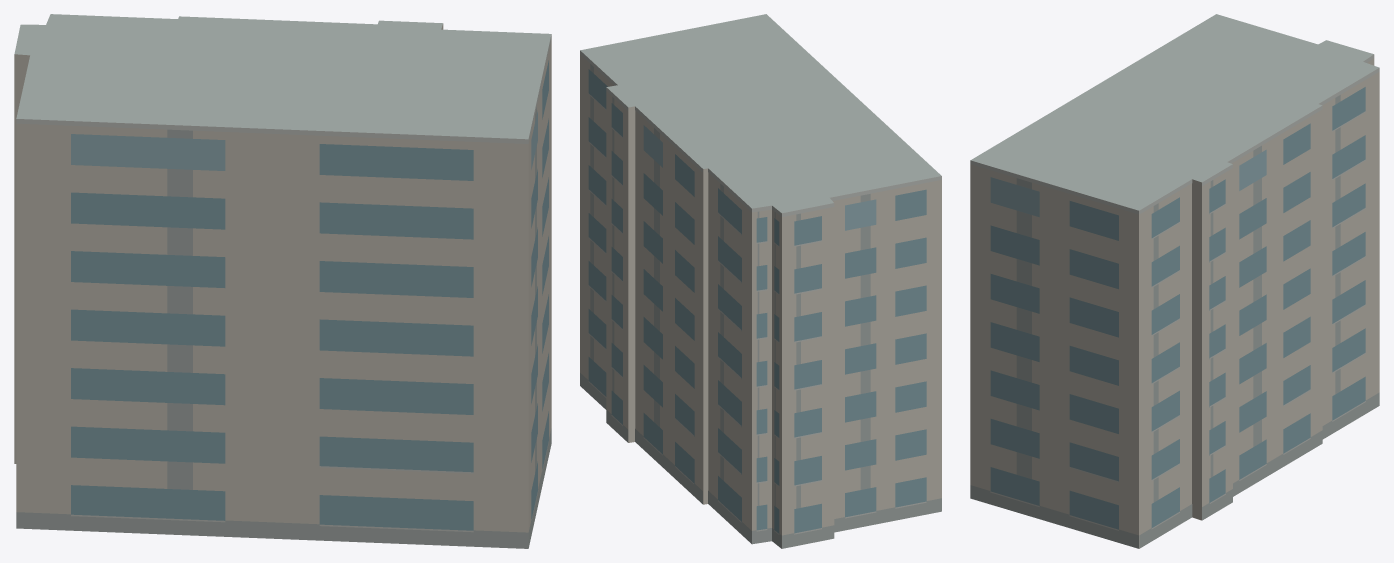
The model's file is survey-upis-32590100.glb.
The picture shows the model from 3 angles, left to right: view 1: azimuth 30°, elevation 25°; view 2: azimuth 150°, elevation 25°; view 3: azimuth 270°, elevation 25°; orthographic projection. The views are drawn at different scales.
Parts seen in each view (by area): view 1: survey-upis-32590100.tmp; view 2: survey-upis-32590100.tmp; view 3: survey-upis-32590100.tmp.
Boxes of the visible parts, box(x1,y1,x2,y2) form: survey-upis-32590100.tmp: box(14, 14, 551, 548); survey-upis-32590100.tmp: box(580, 14, 941, 548); survey-upis-32590100.tmp: box(970, 14, 1379, 548).
Size of the model in its own units: 26.09 by 20.9 by 22.93.
